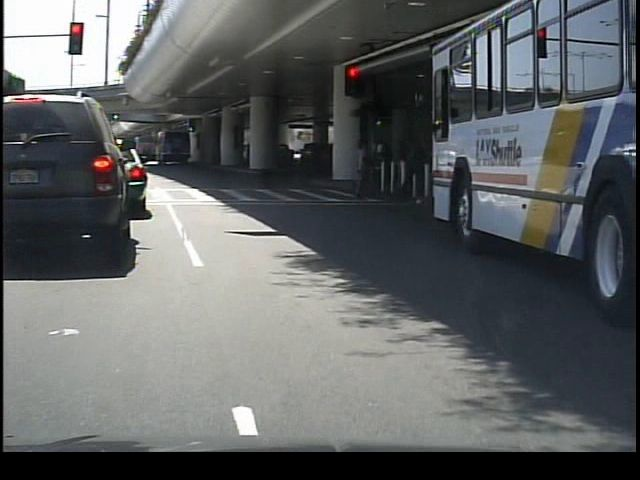person: (346, 137, 380, 204)
